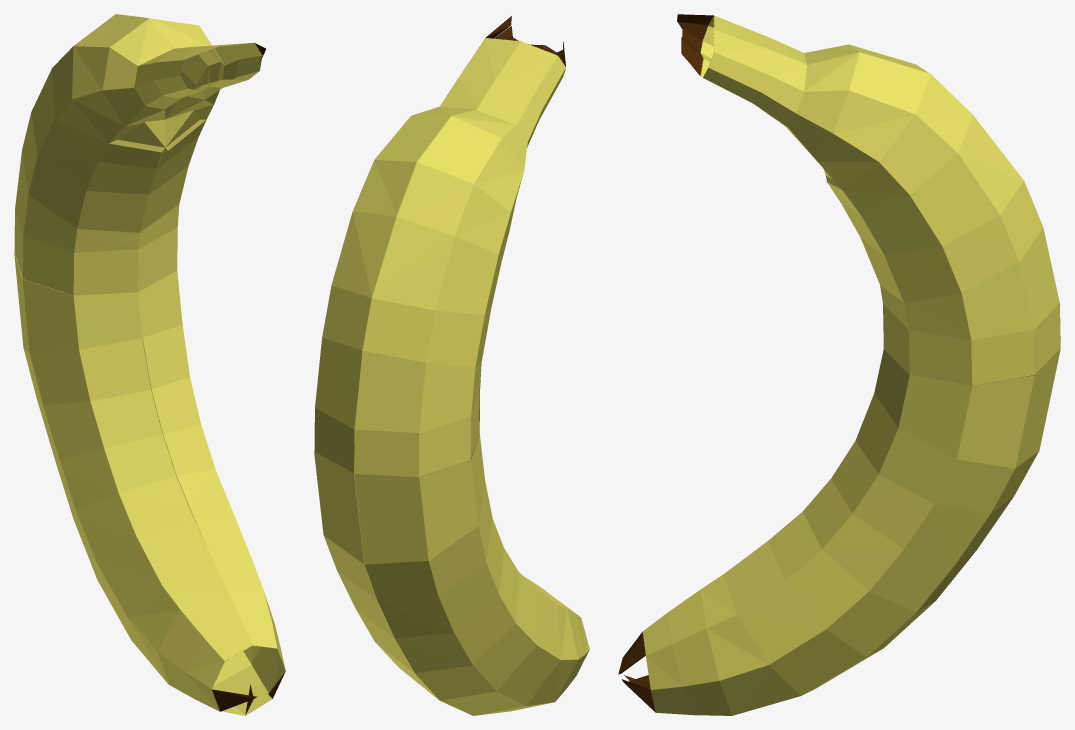
The model's file is banana.obj.
The picture shows the model from 3 angles, left to right: view 1: azimuth 30°, elevation 25°; view 2: azimuth 150°, elevation 25°; view 3: azimuth 270°, elevation 25°; orthographic projection. The views are drawn at different scales.
Parts seen in each view (by area): view 1: Circle; view 2: Circle; view 3: Circle.
Boxes of the visible parts, x1,y1,x2,y2 form: Circle: (14,14,285,715); Circle: (314,16,589,715); Circle: (618,14,1060,715).
Size of the model in its own units: 1.47 by 6.35 by 3.66.
2 materials, 2 textured.
